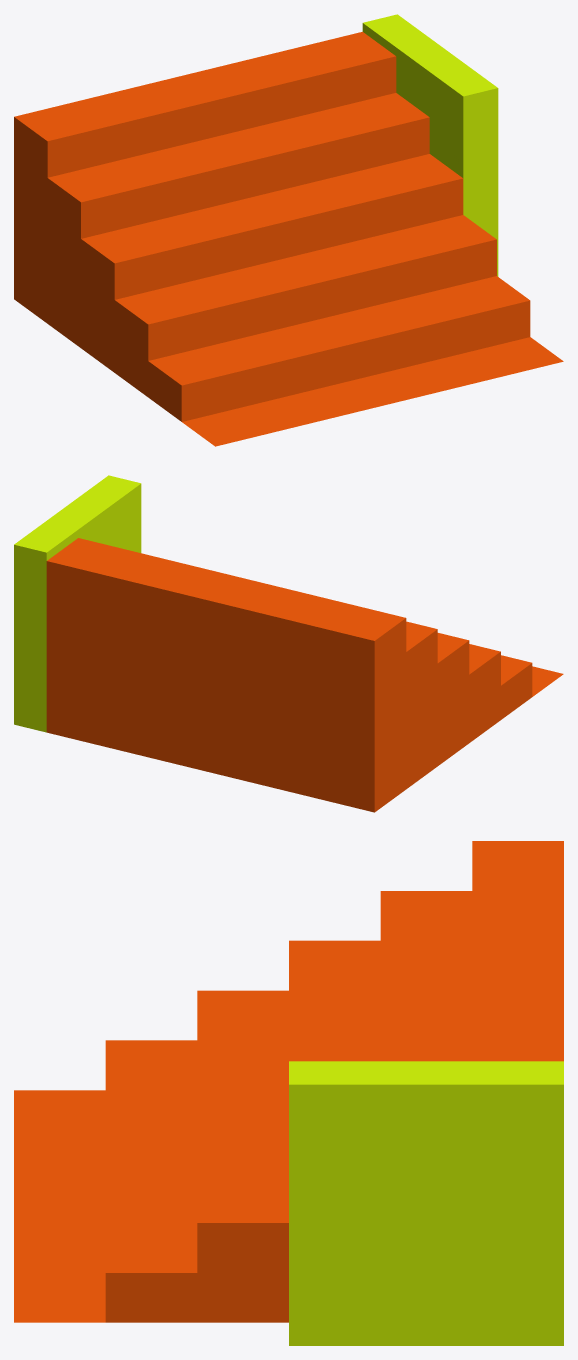
3 renders of one model, top to bottom at view 1: azimuth 30°, elevation 25°; view 2: azimuth 150°, elevation 25°; view 3: azimuth 270°, elevation 25°, orthographic. The views are drawn at different scales.
Visible parts, largest first — view 1: T_3_b_0; view 2: T_3_b_0; view 3: T_3_b_0.
Boxes of the visible parts, x1,y1,x2,y2 form: T_3_b_0: (14,14,563,446); T_3_b_0: (14,475,563,812); T_3_b_0: (14,841,563,1345).
Bounding box in the file's own units: 110 × 52.34 × 99.81.
